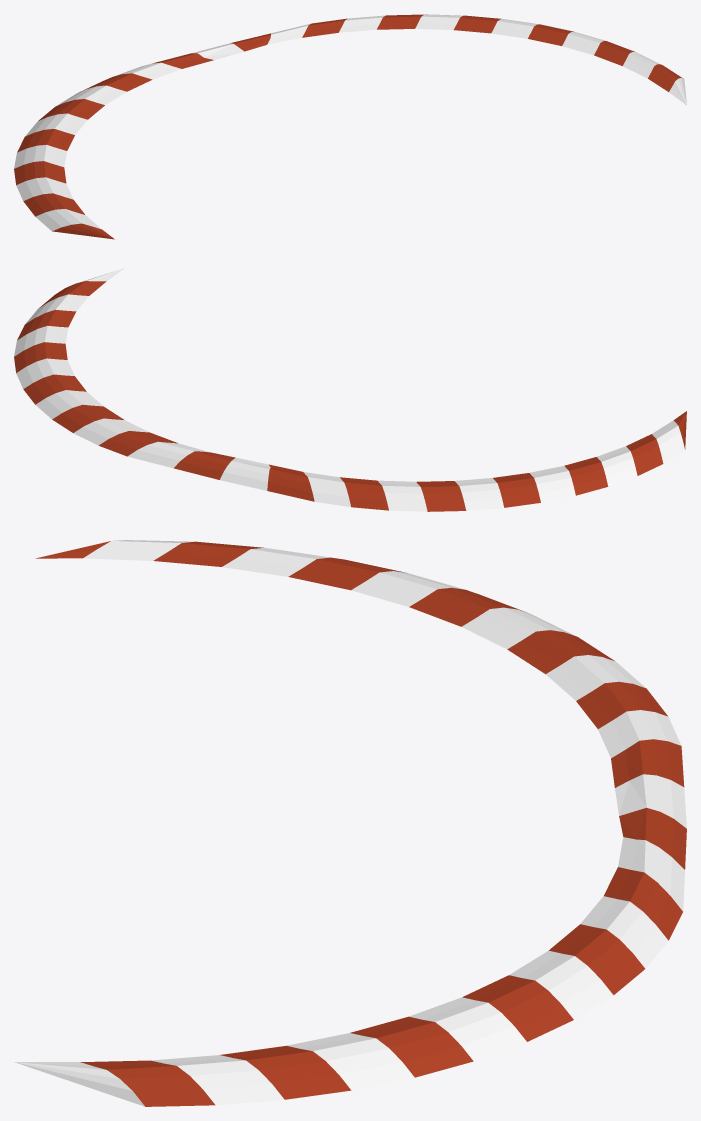
Rendered from borde.fbx.
3 renders of one model, top to bottom at view 1: azimuth 30°, elevation 25°; view 2: azimuth 150°, elevation 25°; view 3: azimuth 270°, elevation 25°, orthographic. The views are drawn at different scales.
Visible parts, largest first — view 1: borde; view 2: borde; view 3: borde.
Part boxes in pixels (bbox=[...]): borde: bbox=[14, 14, 686, 239]; borde: bbox=[14, 268, 686, 511]; borde: bbox=[14, 540, 686, 1106].
Size of the model in its own units: 32.83 by 0.5912 by 16.65.
